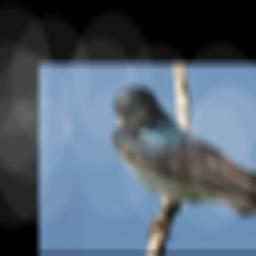Swallow: (111, 87, 256, 241)
